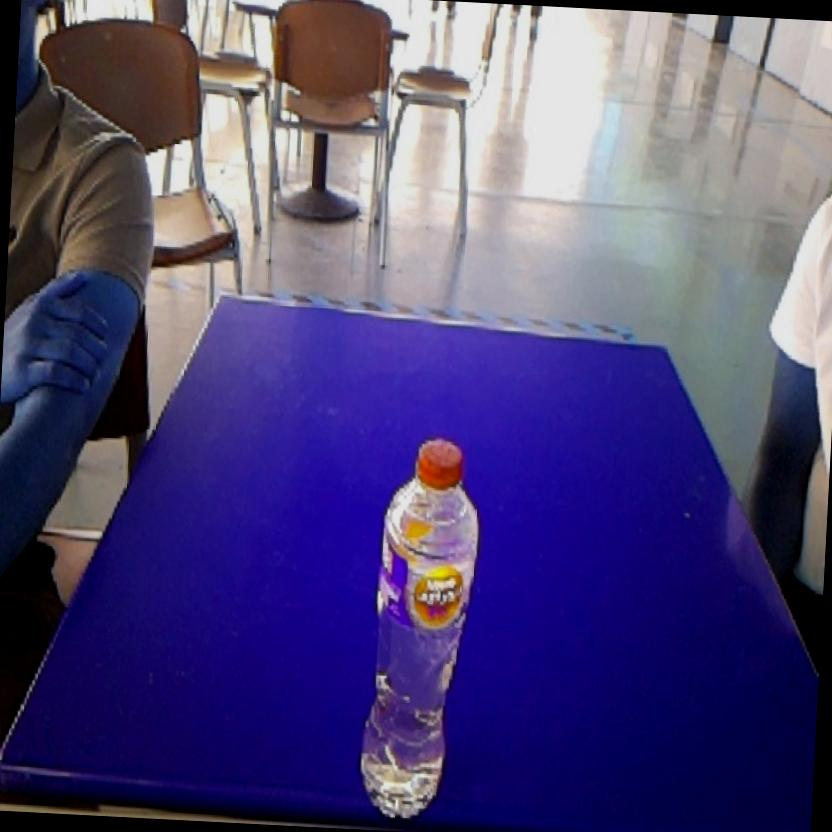good: (345, 414, 490, 832)
